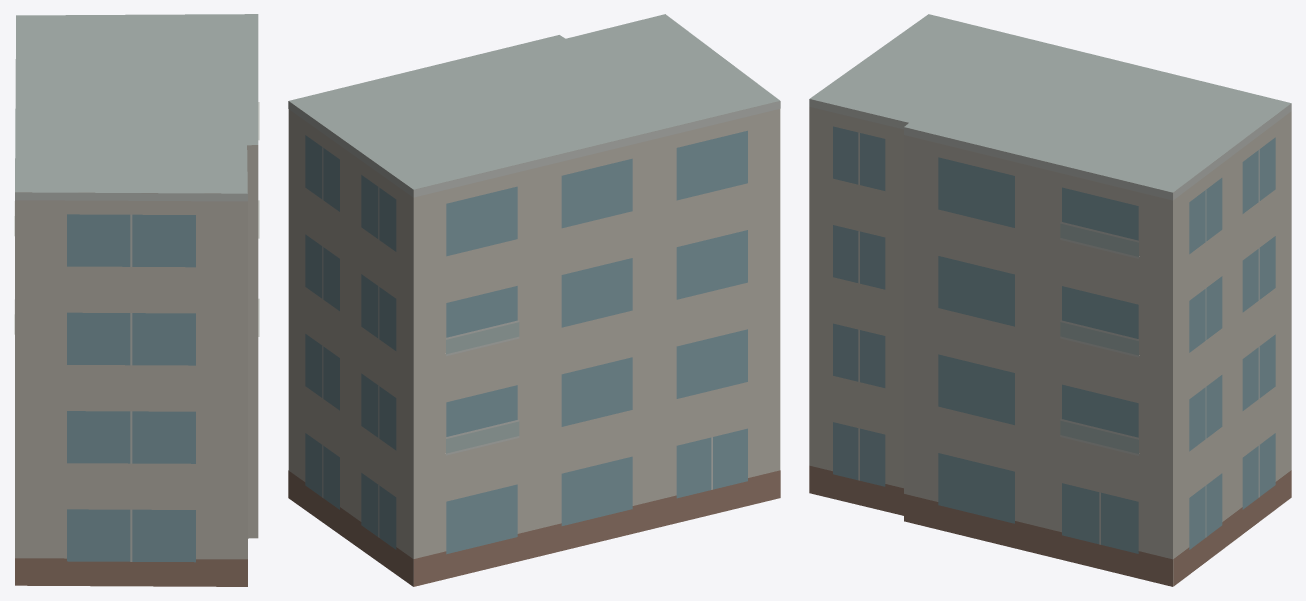
Rendered from survey-upis-32563155.glb.
3 views of the same model, side by side, from view 1: azimuth 30°, elevation 25°; view 2: azimuth 150°, elevation 25°; view 3: azimuth 270°, elevation 25° (orthographic).
Visible parts, largest first — view 1: survey-upis-32563155.tmp; view 2: survey-upis-32563155.tmp; view 3: survey-upis-32563155.tmp.
Part boxes in pixels (x1,y1,x2,y2): survey-upis-32563155.tmp: [14, 14, 259, 586]; survey-upis-32563155.tmp: [288, 14, 780, 586]; survey-upis-32563155.tmp: [809, 14, 1291, 586].
Bounding box in the file's own units: 11.87 × 12.2 × 13.53.
